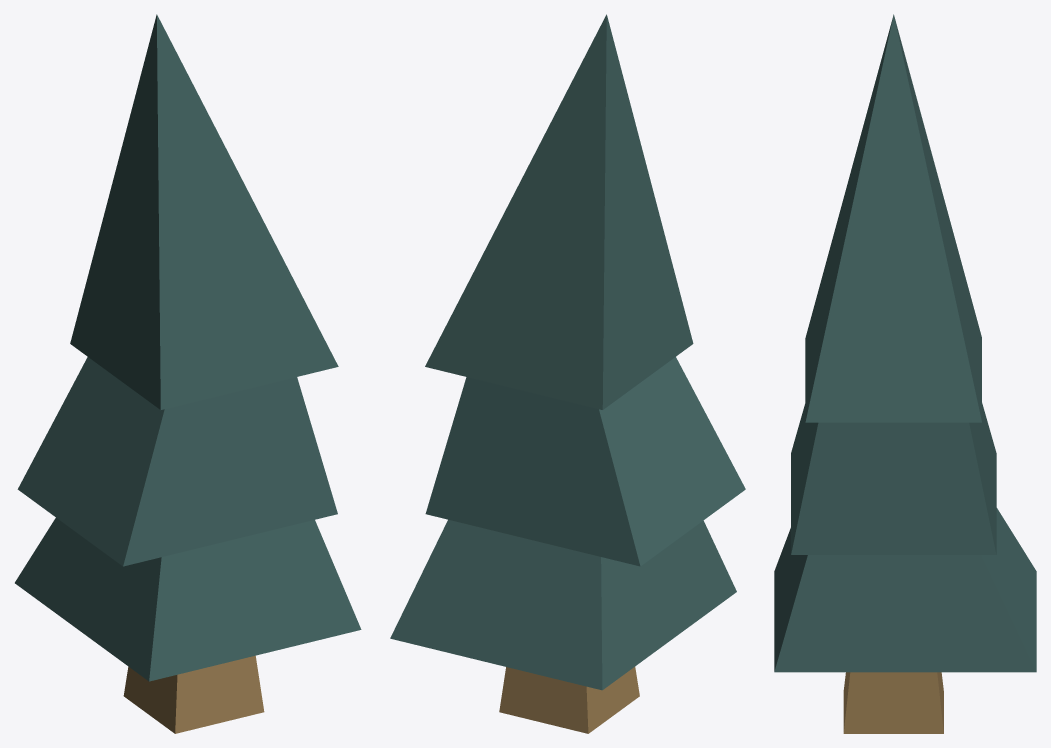
Rendered from Tree_01.obj.
3 renders of one model, left to right at view 1: azimuth 30°, elevation 25°; view 2: azimuth 150°, elevation 25°; view 3: azimuth 270°, elevation 25°, orthographic. The views are drawn at different scales.
Parts seen in each view (by area): view 1: Mesh1_Tree_Model; view 2: Mesh1_Tree_Model; view 3: Mesh1_Tree_Model.
Part boxes in pixels (left/top/right/bottom): Mesh1_Tree_Model: left=15, top=14, right=361, bottom=733; Mesh1_Tree_Model: left=390, top=14, right=745, bottom=733; Mesh1_Tree_Model: left=774, top=14, right=1036, bottom=733.
Size of the model in its own units: 1.28 by 3.71 by 1.3.
